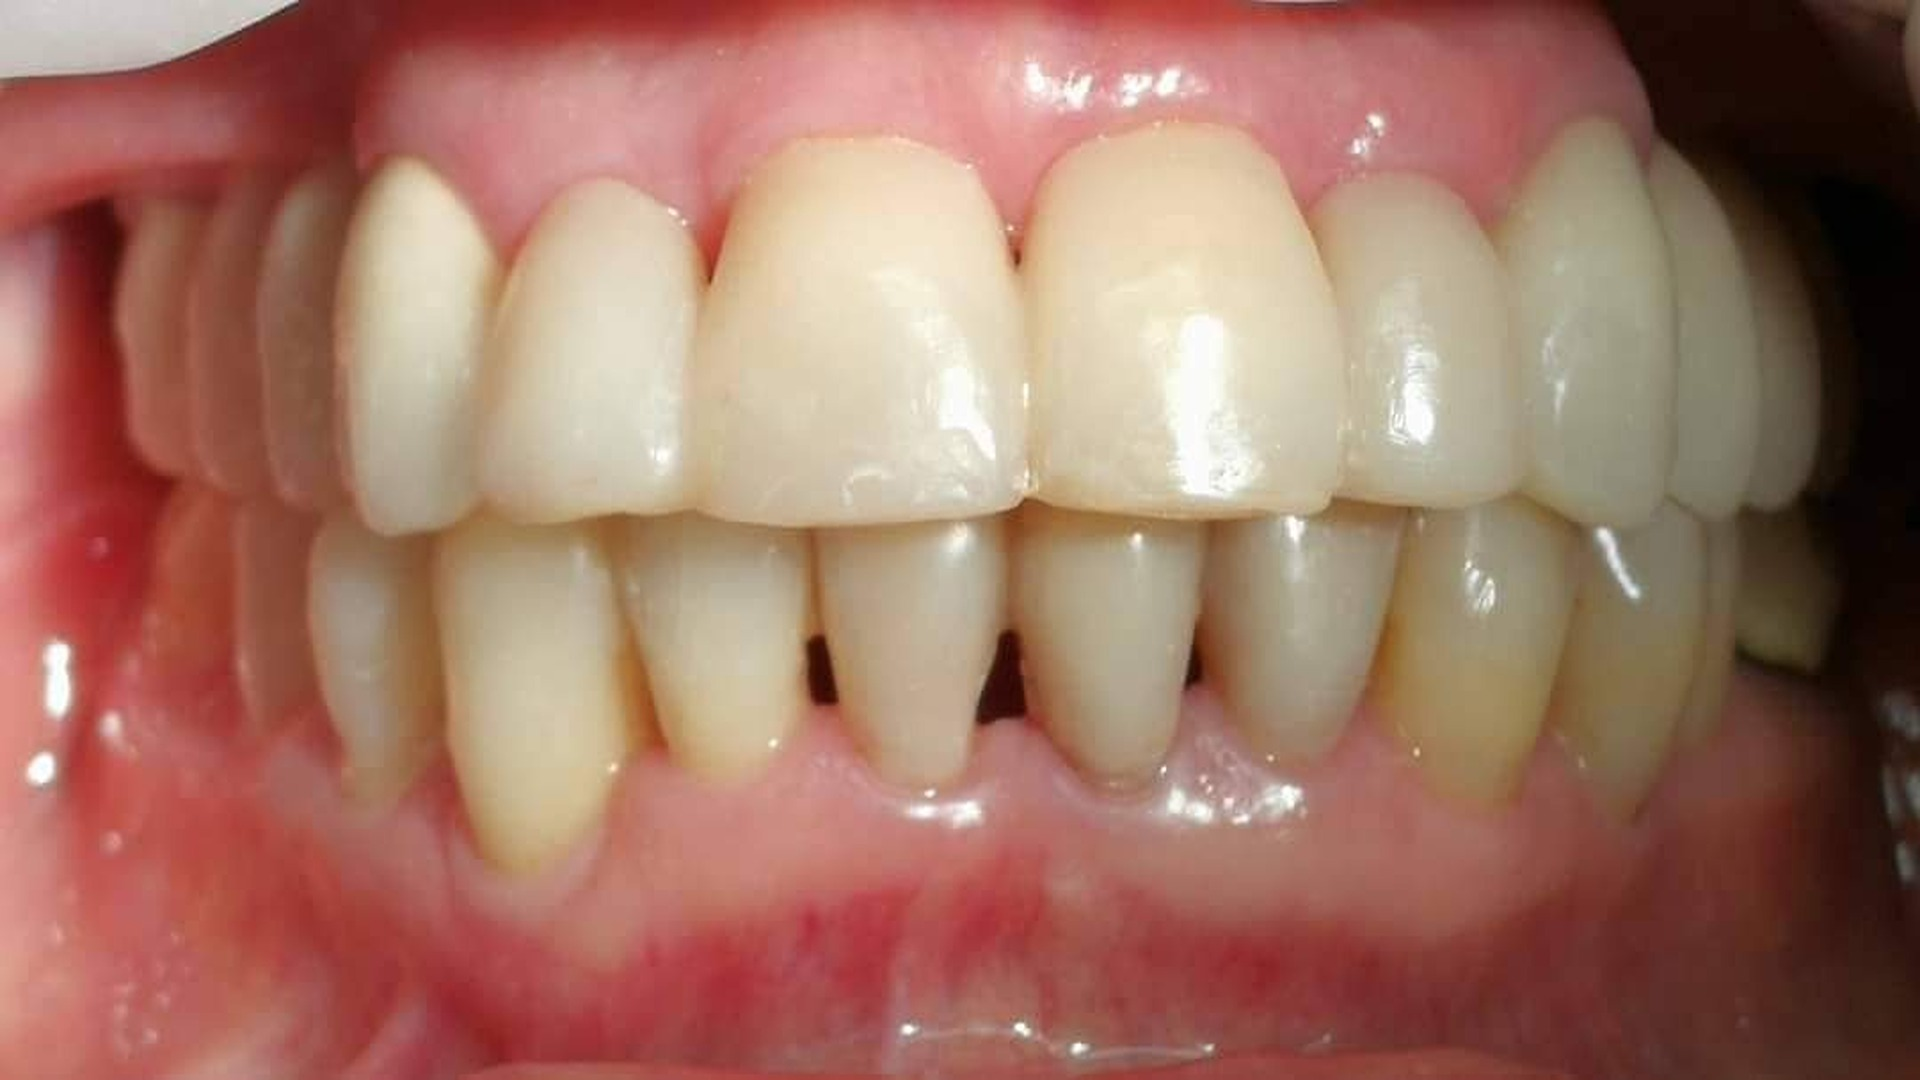tooth: (691, 135, 1030, 527), (1019, 121, 1346, 521), (477, 177, 705, 524), (433, 512, 645, 874), (1495, 115, 1676, 527), (1305, 171, 1526, 509), (1365, 495, 1581, 804), (334, 156, 502, 537), (1549, 497, 1737, 825), (1005, 498, 1205, 793), (1195, 498, 1407, 770), (603, 510, 814, 782), (814, 516, 1009, 791), (1648, 135, 1762, 521), (307, 509, 444, 827), (257, 160, 355, 517)
